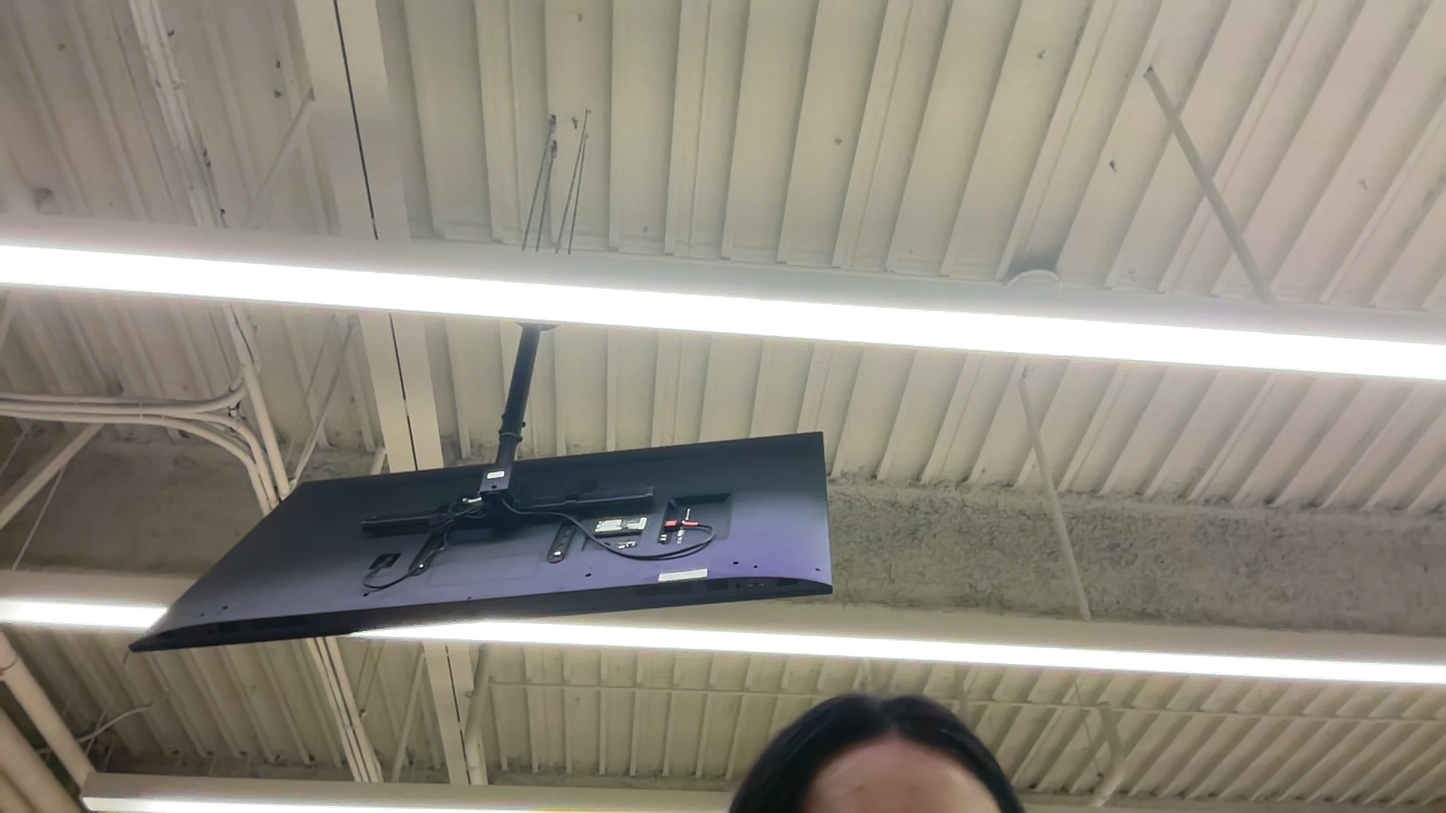Plastic: (5, 402, 271, 604)
